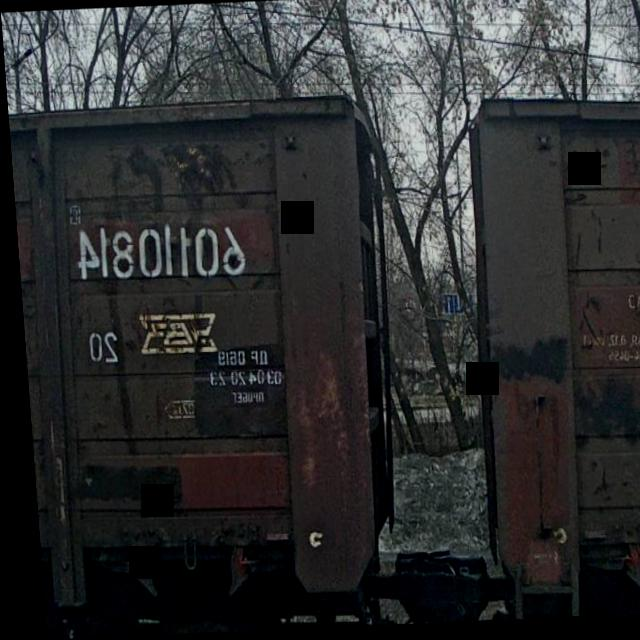gondola: (6, 83, 414, 640), (440, 69, 640, 625)
